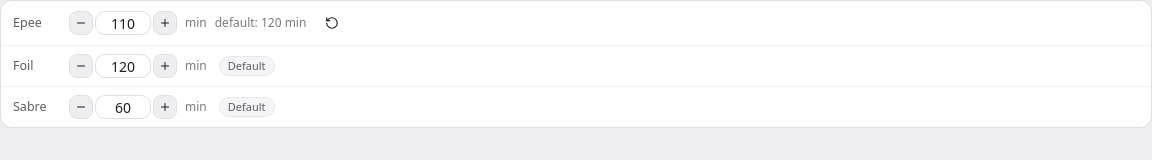
Test: PoolDurationSettings revert › activating the revert control brings the Default badge back
Click the button named "revert epee": (332, 23) [314,9,350,37]
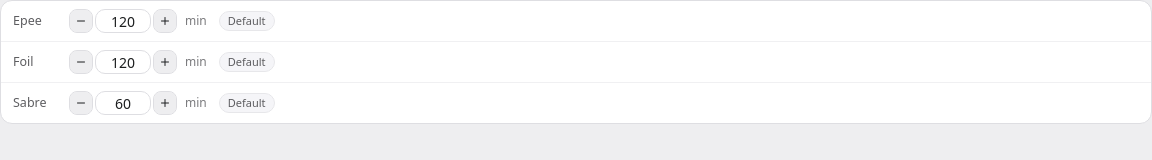
Expected: the number of icons "Default" is 3, [219,11,274,31]; [219,52,274,72]; [219,93,274,113]
